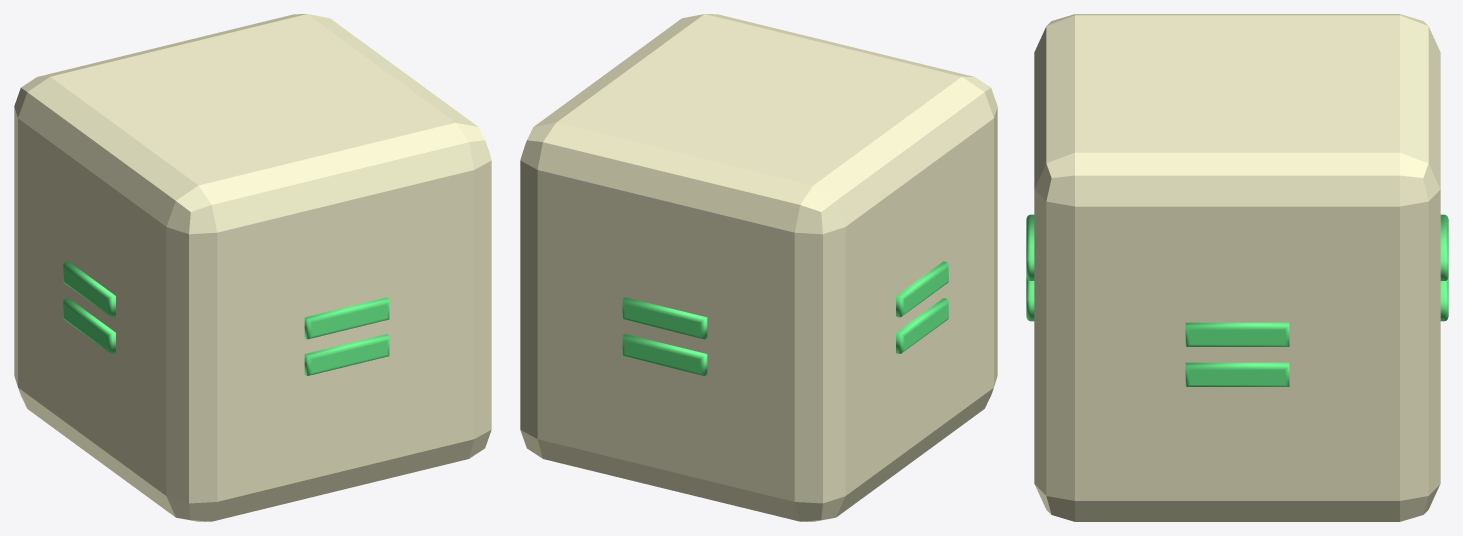
The model's file is Equals.fbx.
The picture shows the model from 3 angles, left to right: view 1: azimuth 30°, elevation 25°; view 2: azimuth 150°, elevation 25°; view 3: azimuth 270°, elevation 25°; orthographic projection. The views are drawn at different scales.
Visible parts, largest first — view 1: Equlas; view 2: Equlas; view 3: Equlas.
Boxes of the visible parts, x1=… form: Equlas: x1=14, y1=14, x2=491, y2=521; Equlas: x1=520, y1=14, x2=997, y2=521; Equlas: x1=1026, y1=14, x2=1448, y2=521.
Bounding box in the file's own units: 208 × 200 × 208.
